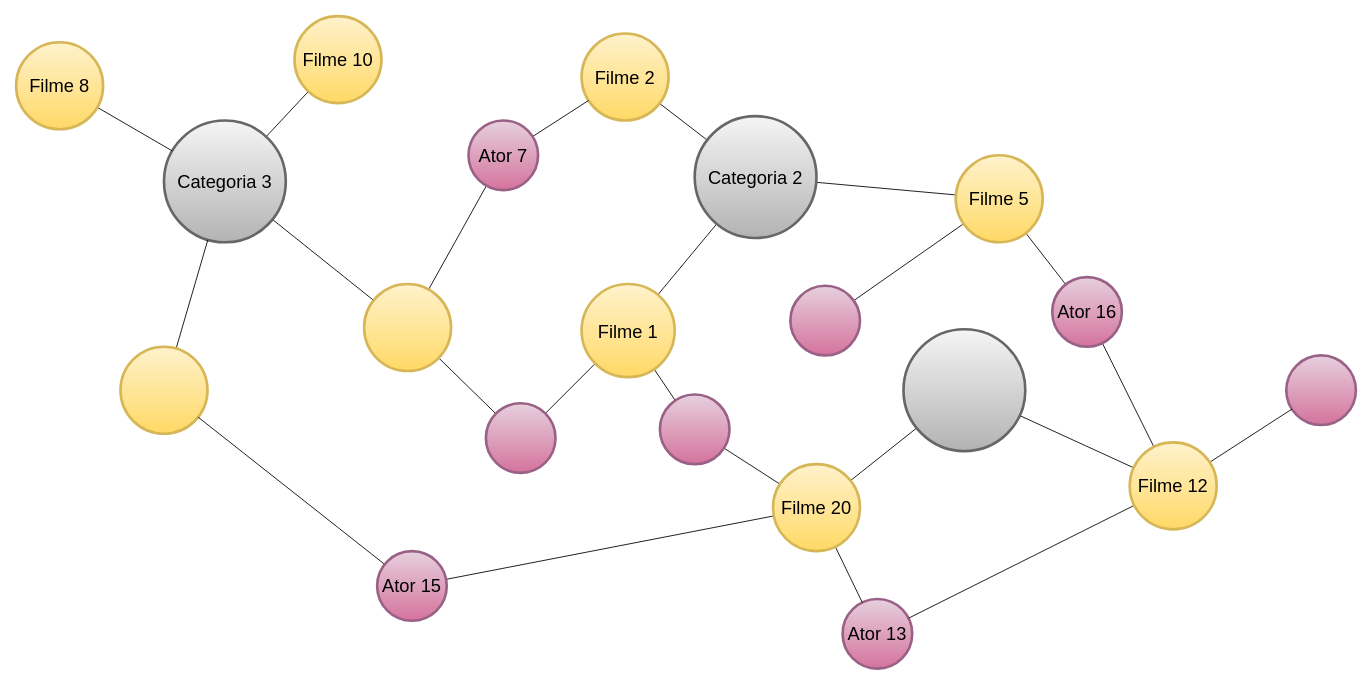
Some shapes in this 1372 by 685 pixel diagram are drawn without their labels. Each missing label, with the centre of its shape:
Ator 01: the point at 520,438
Ator 02: the point at 825,320
Ator 14: the point at 694,429
Ator 17: the point at 1321,390
Categoria 1: the point at 964,390
Filme 4: the point at 407,327
Filme 6: the point at 163,390
